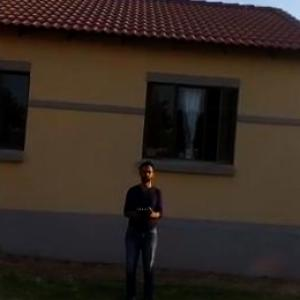follow: (117, 154, 166, 298)
